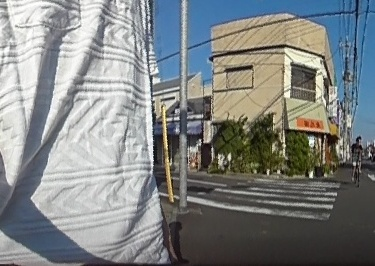person: (352, 135, 363, 175)
